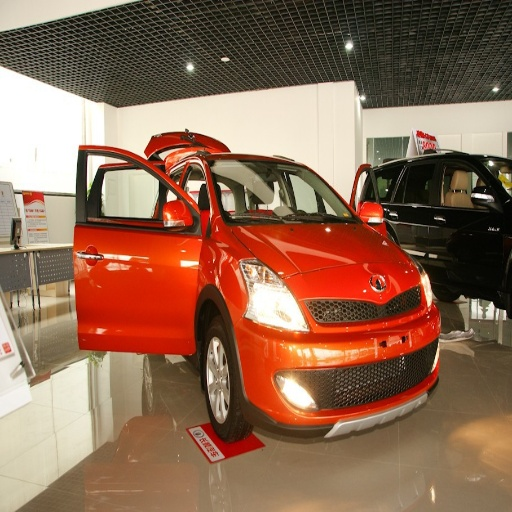front_bumper: (233, 291, 434, 431)
front_right_door: (91, 155, 200, 344)
front_right_light: (239, 259, 308, 332)
